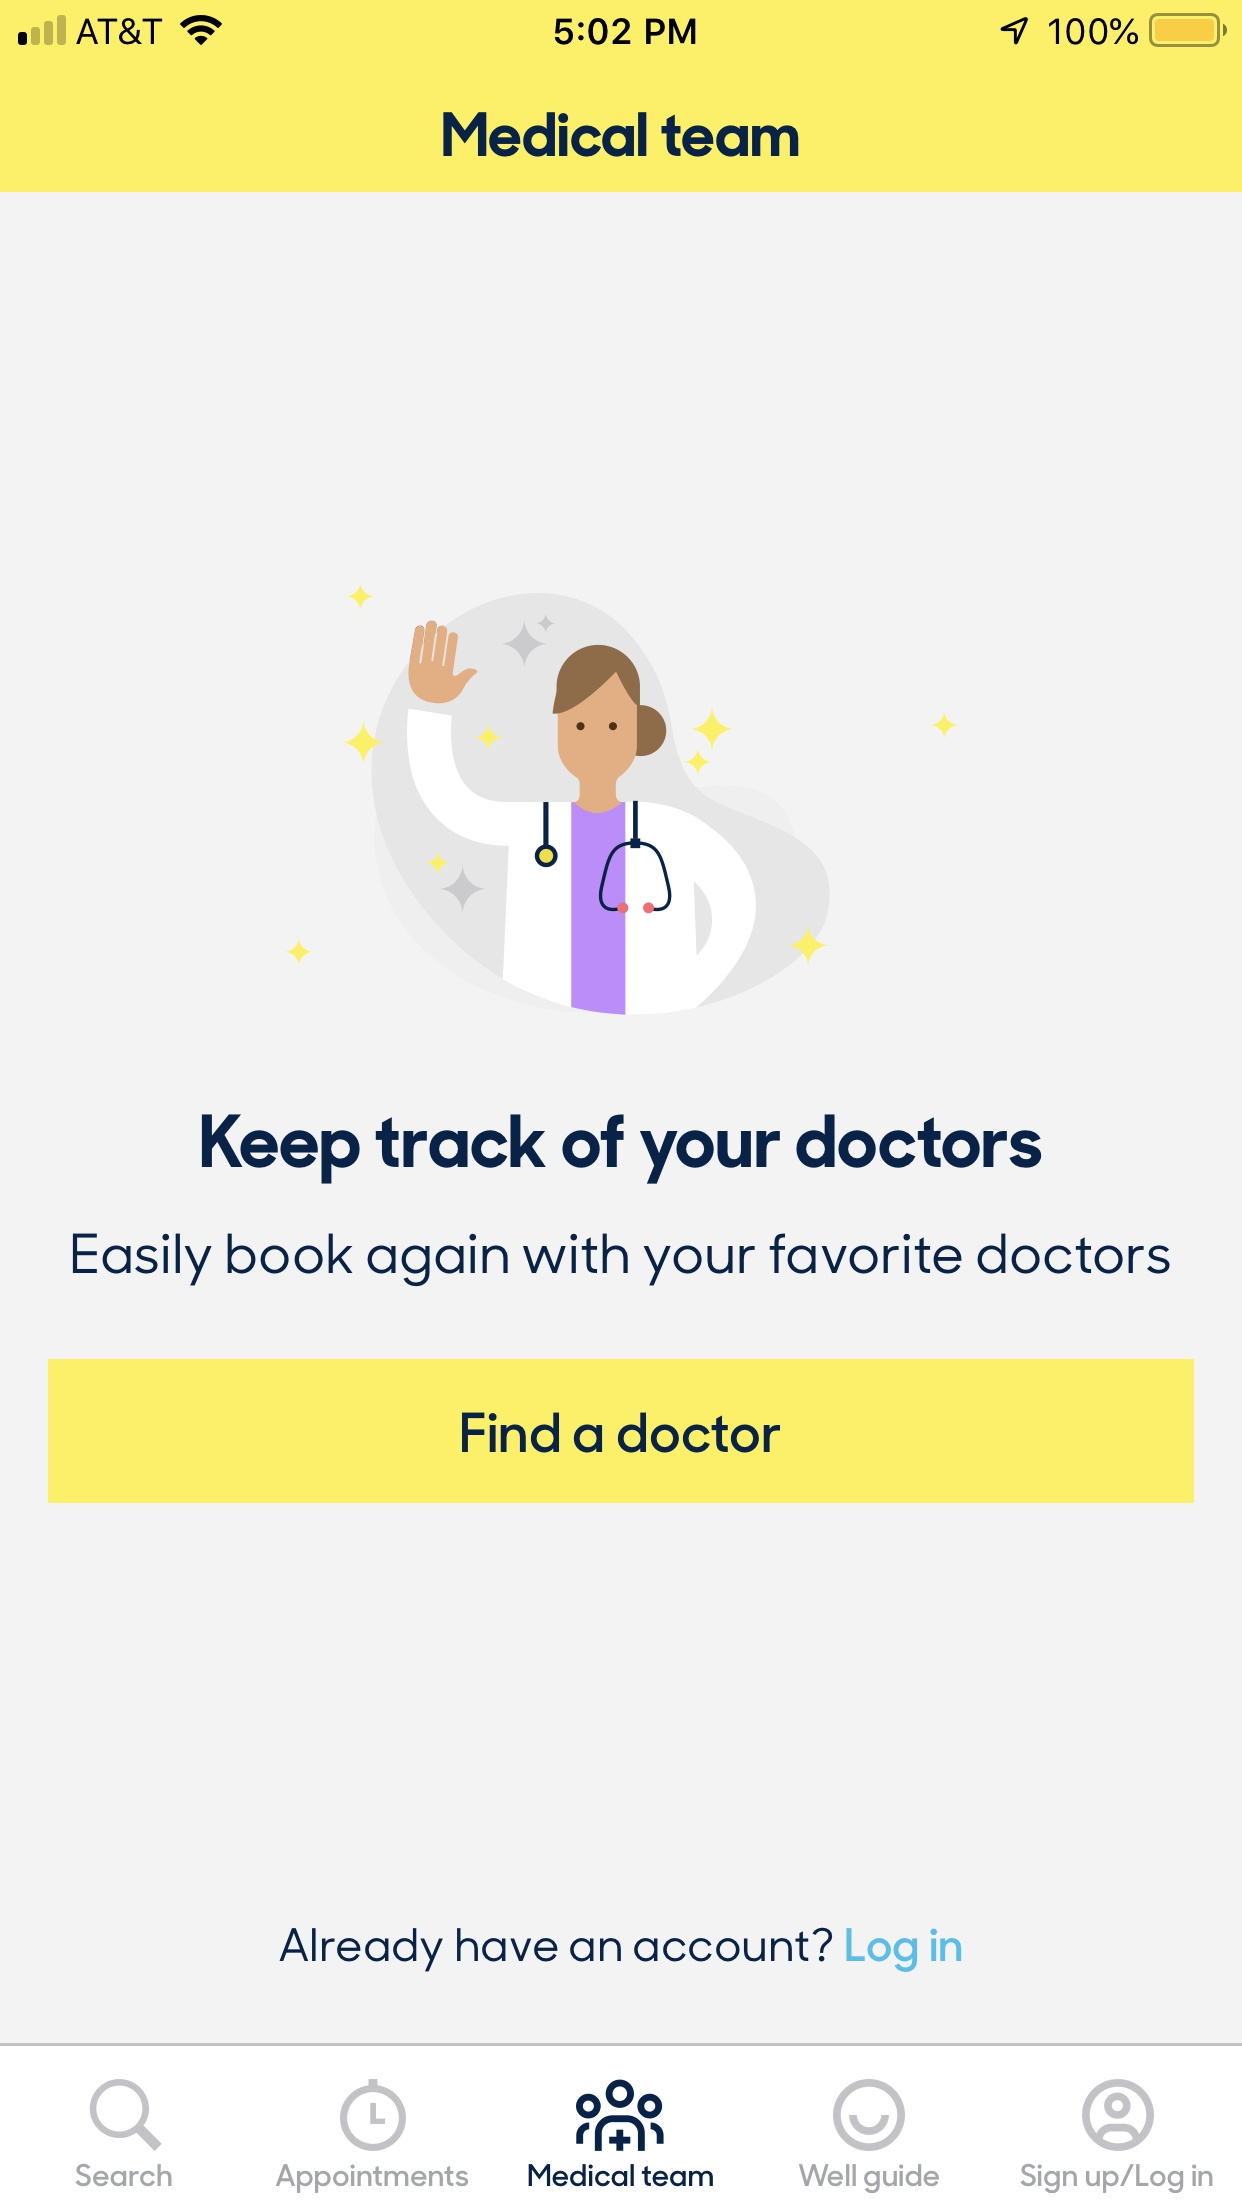Icon: (575, 2079, 666, 2152), (1081, 2078, 1156, 2152), (89, 2079, 162, 2152), (340, 2078, 408, 2152)
Image: (284, 582, 958, 1016), (833, 2079, 905, 2152)
Text: (73, 1231, 1171, 1287), (202, 1113, 1042, 1184), (279, 1927, 961, 1973), (443, 112, 799, 159), (276, 2163, 470, 2194), (1021, 2163, 1215, 2194), (528, 2163, 714, 2187), (799, 2163, 940, 2194), (76, 2163, 174, 2187)
TextButton: (49, 1359, 1195, 1504)
UpperTaskBar: (2, 2, 1242, 49)
